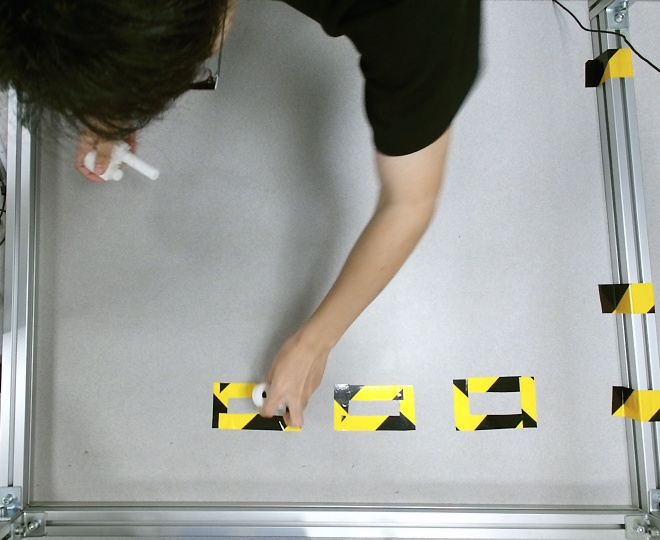stage_3: (83, 140, 159, 181)
